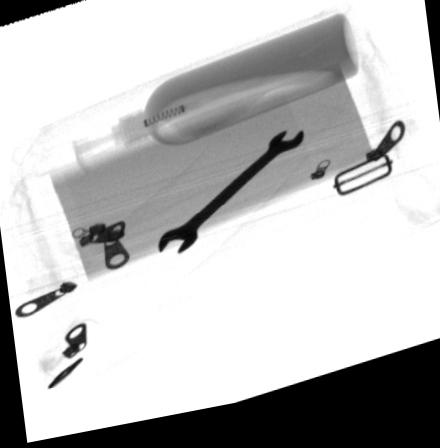Wrench: (154, 139, 303, 262)
